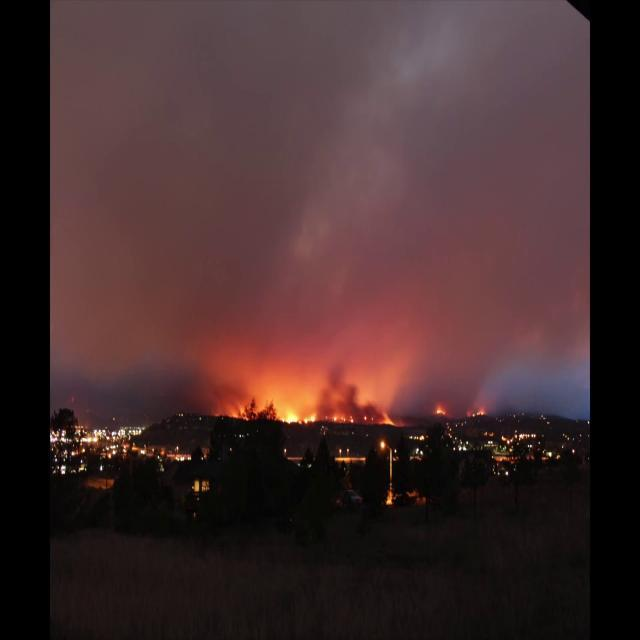Fire: (280, 408, 316, 424), (227, 401, 247, 421), (333, 414, 354, 422), (472, 406, 486, 417), (436, 404, 446, 416)
